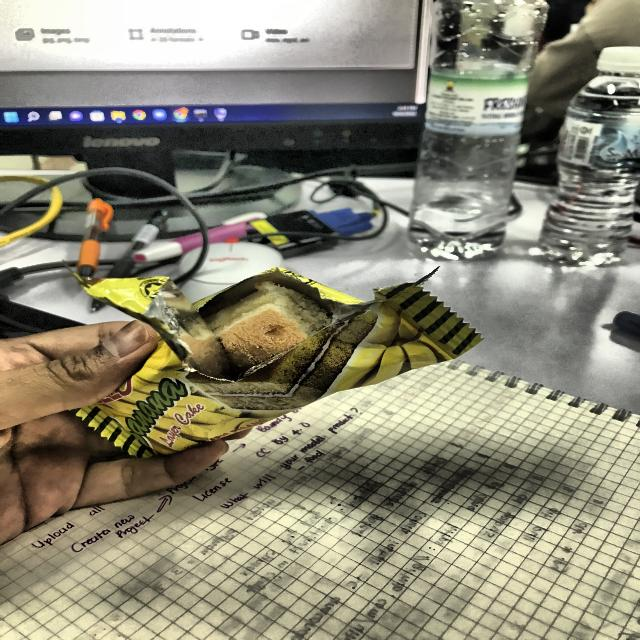Plastic: (58, 271, 481, 467)
